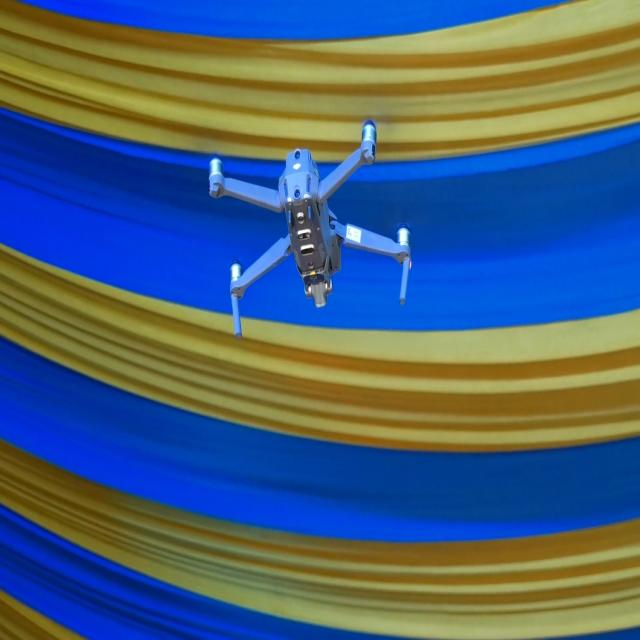Drone: (209, 121, 413, 341)
